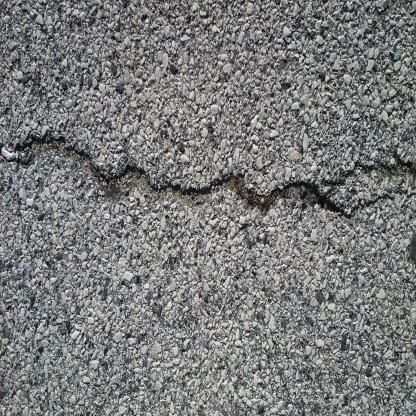Cracks: (1, 120, 416, 221)
